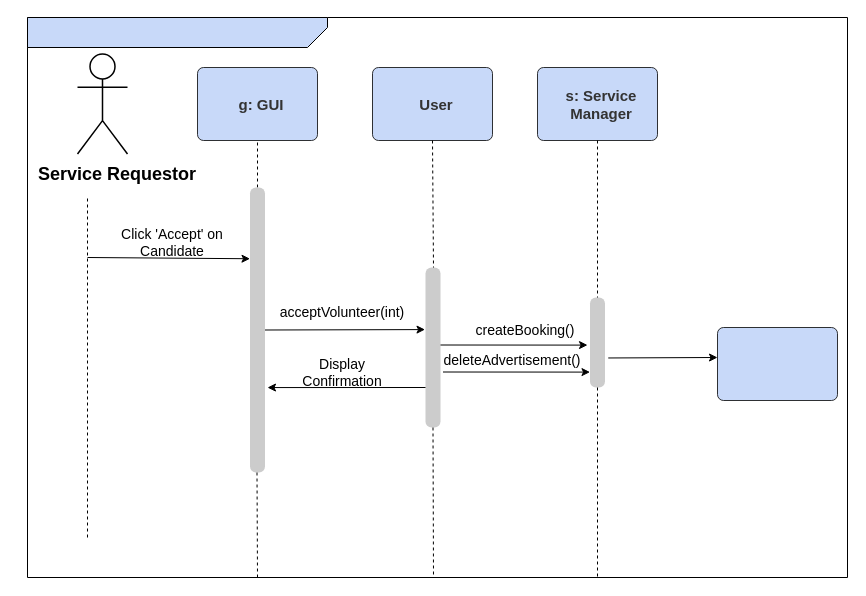
Image size: 866x596. Some labels were removed from this diagram. Each missing label, with the box of its shape:
AcceptVolunteer: (26, 16, 328, 48)
b: Booking: (717, 327, 837, 400)
